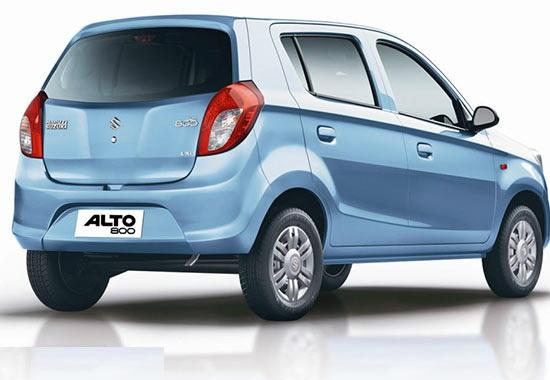suzuki: (106, 110, 126, 135)
